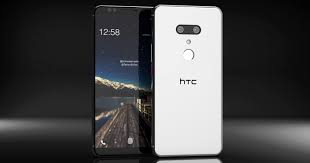htc: (151, 1, 225, 159), (89, 2, 154, 159)
